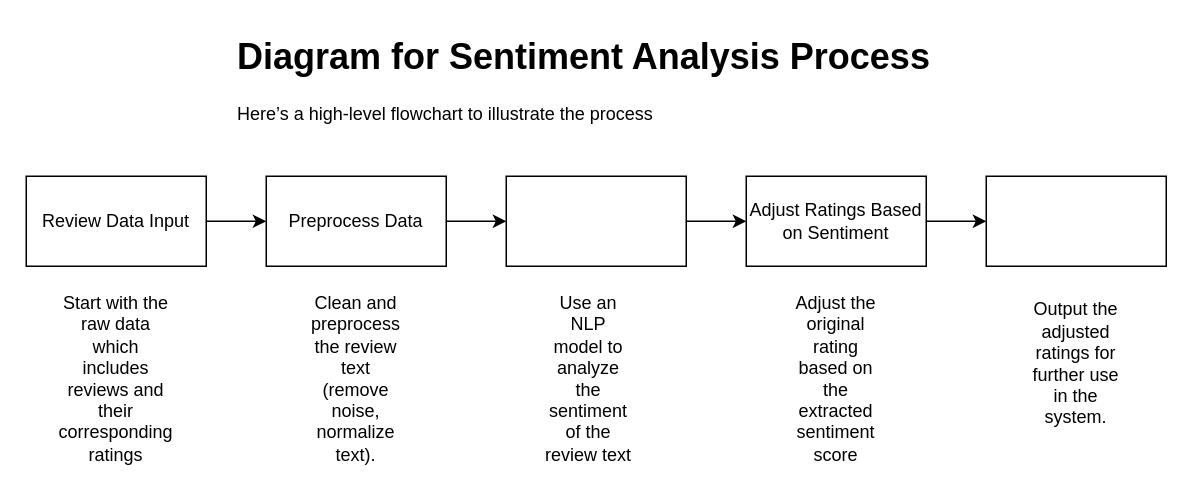
The diagram is 1193 pixels wide and 491 high, and some of its shapes have lost their labels. Here are the shapes that lost their labels. From the top down, the box of each, then its label:
(505, 175, 686, 266): Perform Sentiment Analysis
(985, 175, 1166, 266): Output Enhanced Ratings
